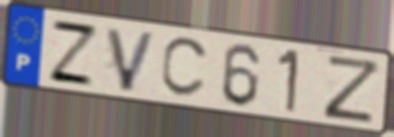1: (275, 48, 300, 116)
6: (220, 40, 263, 110)
C: (158, 36, 213, 101)
V: (103, 25, 160, 95)
Z: (321, 52, 384, 126), (45, 17, 102, 90)
